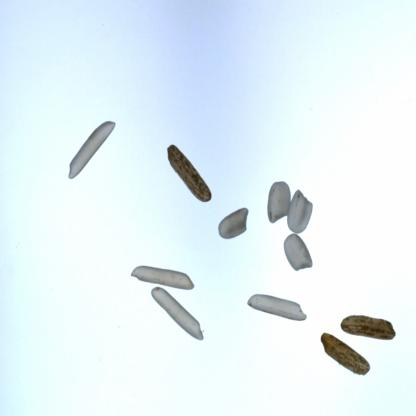Full: (64, 108, 122, 183), (166, 126, 218, 205), (143, 277, 206, 340), (312, 326, 372, 378), (243, 281, 307, 323), (334, 306, 397, 343), (129, 258, 196, 290), (212, 199, 258, 242), (278, 227, 318, 271), (284, 183, 318, 233), (265, 174, 295, 222)
